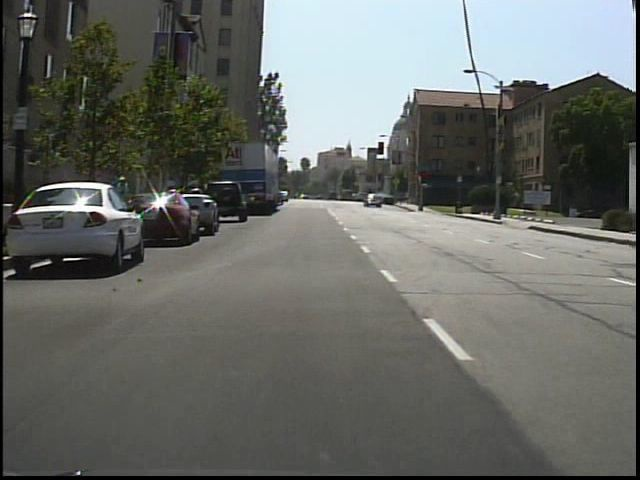person: (83, 168, 106, 225), (114, 172, 137, 223)
